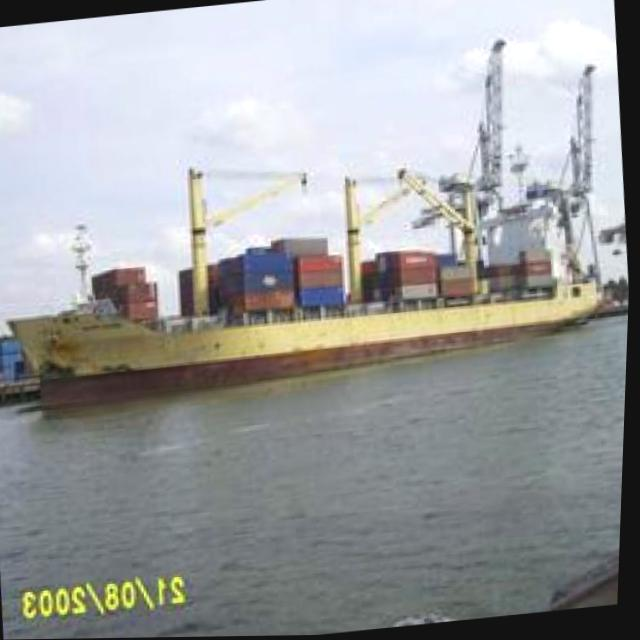ship2: (7, 168, 604, 412)
